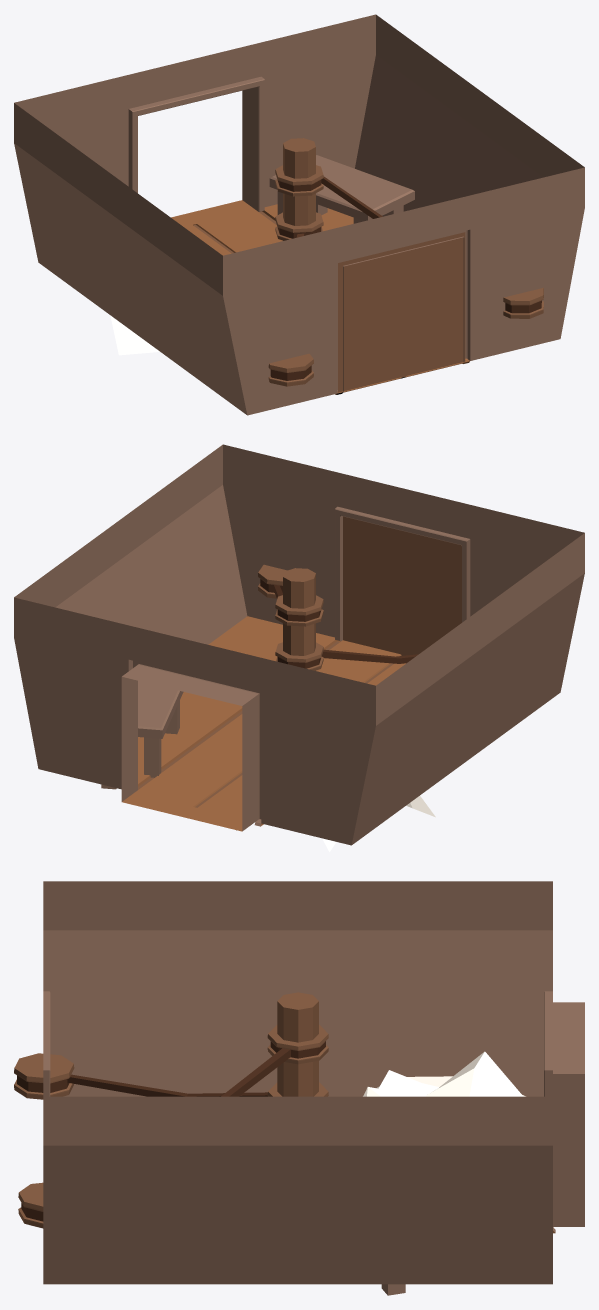
File: room_sailing.glb
The picture shows the model from 3 angles, top to bottom: view 1: azimuth 30°, elevation 25°; view 2: azimuth 150°, elevation 25°; view 3: azimuth 270°, elevation 25°; orthographic projection. The views are drawn at different scales.
Parts seen in each view (by area): view 1: Room; view 2: Room; view 3: Room.
Part boxes in pixels (x1=…): Room: x1=14, y1=14, x2=584, y2=415; Room: x1=14, y1=444, x2=584, y2=851; Room: x1=14, y1=881, x2=584, y2=1295.
Size of the model in its own units: 8 by 4.24 by 8.96.
